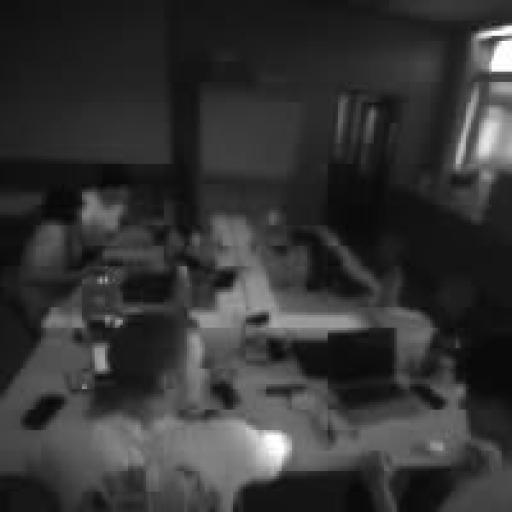human: (29, 310, 291, 511), (410, 331, 511, 511), (6, 190, 81, 317), (82, 164, 130, 253)
